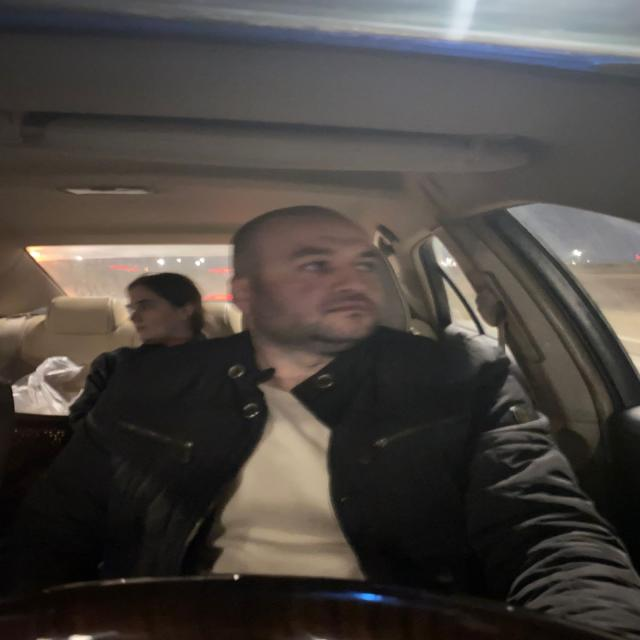LeftRight: (219, 202, 412, 374)
